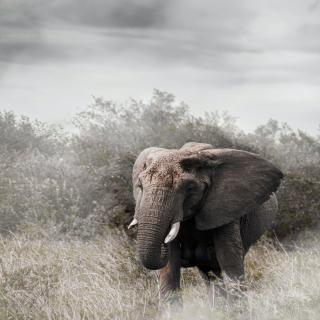Elephant: (124, 139, 287, 301)
